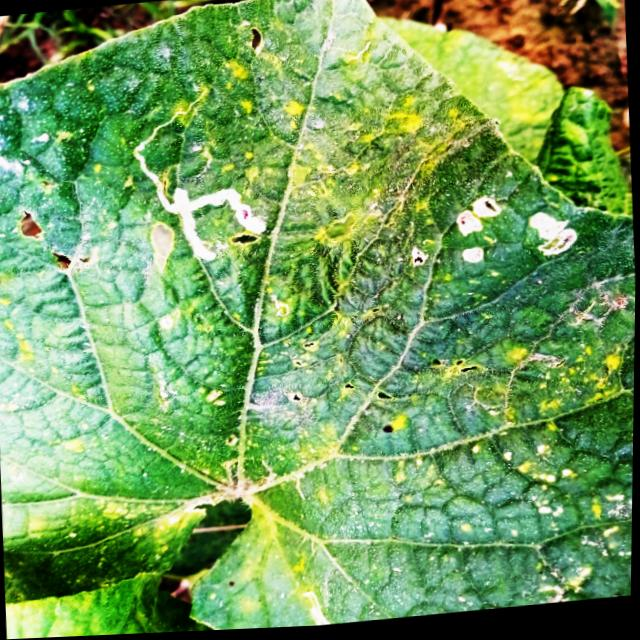Downy-Mildew: (0, 0, 636, 633)
